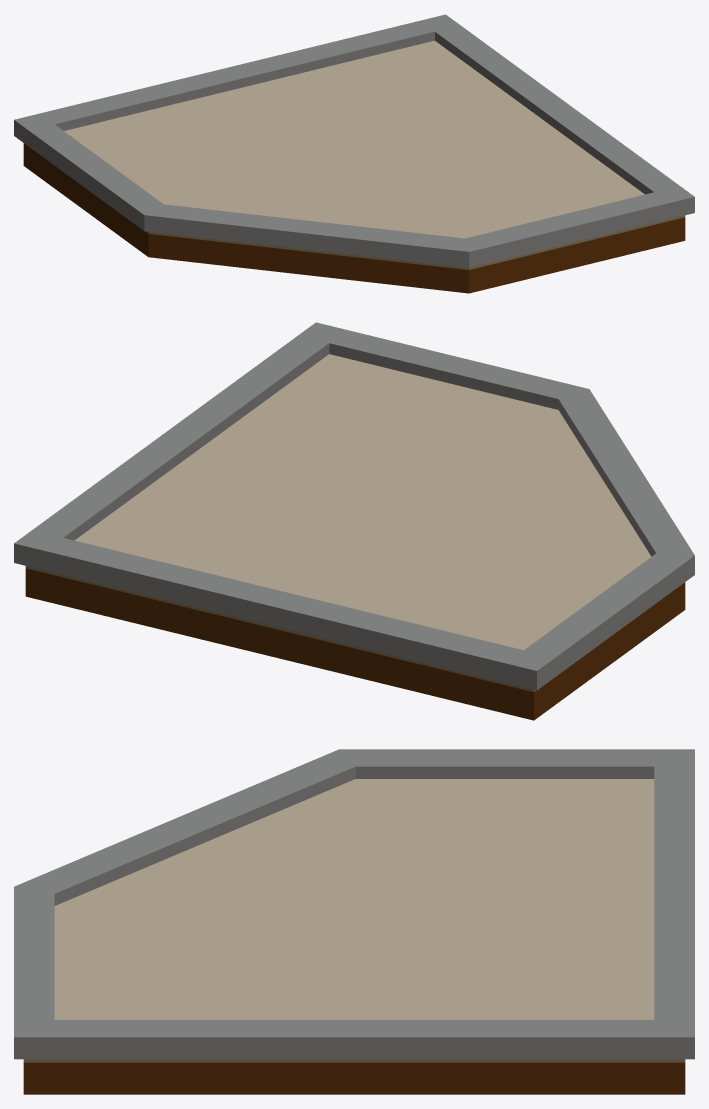
The model's file is Building_A_03.FBX.
The picture shows the model from 3 angles, top to bottom: view 1: azimuth 30°, elevation 25°; view 2: azimuth 150°, elevation 25°; view 3: azimuth 270°, elevation 25°; orthographic projection. The views are drawn at different scales.
Parts seen in each view (by area): view 1: Building_A_03; view 2: Building_A_03; view 3: Building_A_03.
Part boxes in pixels (x1=…): Building_A_03: x1=14, y1=14, x2=694, y2=293; Building_A_03: x1=14, y1=322, x2=694, y2=720; Building_A_03: x1=14, y1=749, x2=694, y2=1094.
Size of the model in its own units: 5.02 by 0.5001 by 5.02.
